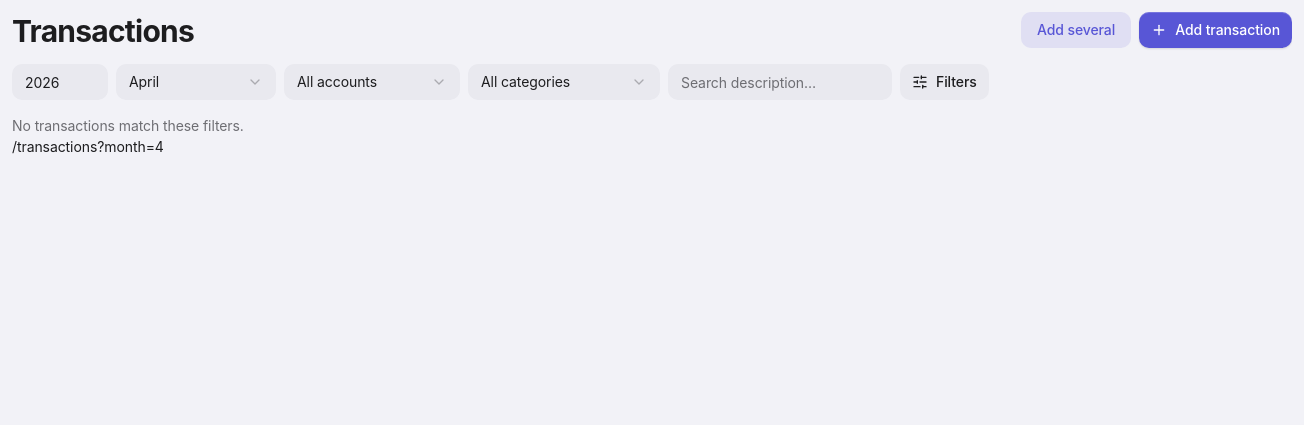
Test case: Transactions page › switches between a month and a custom range
Click the dropdown named "Period" at x=196, y=82, box [116,64,276,100]
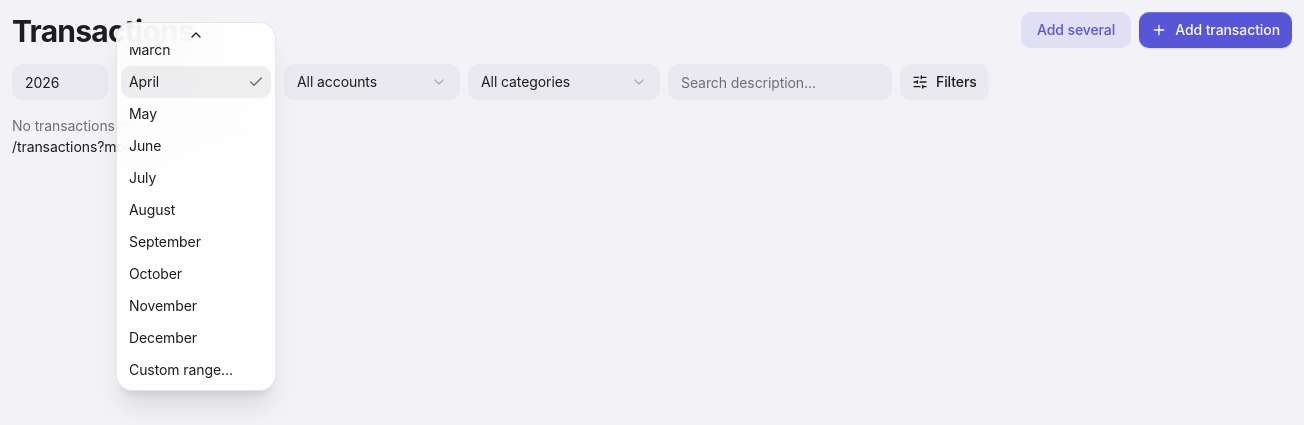
Click the option "Custom range…" at x=181, y=370, box [129,361,233,378]
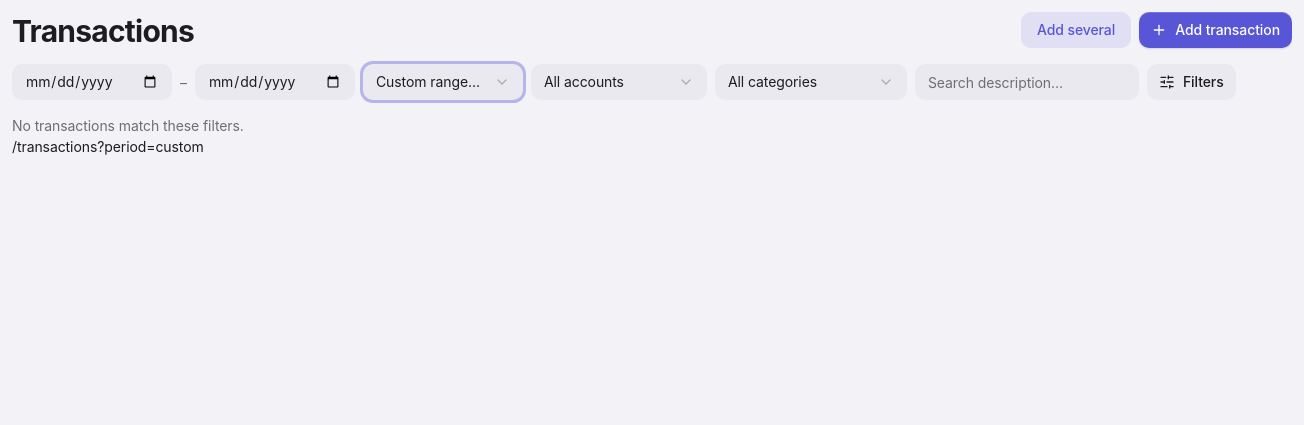
Expected: the text with test id "location" reads "/transactions?period=custom", [12,138,204,155]
Type "2026-05-01" into the date field named "From" at x=92, y=82, box [12,64,172,100]
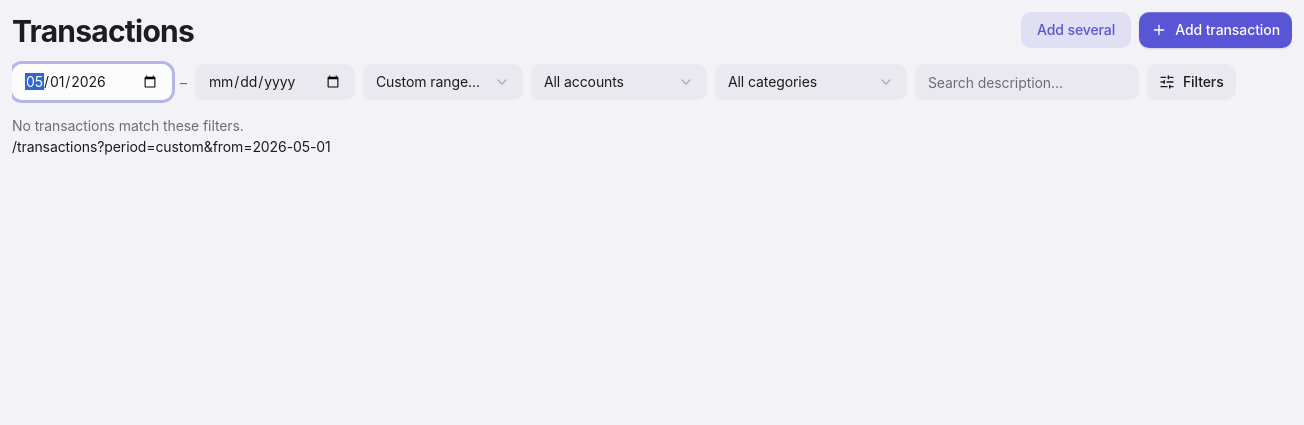
Click the dropdown named "Period" at x=443, y=82, box [363,64,523,100]
(page scrolled)
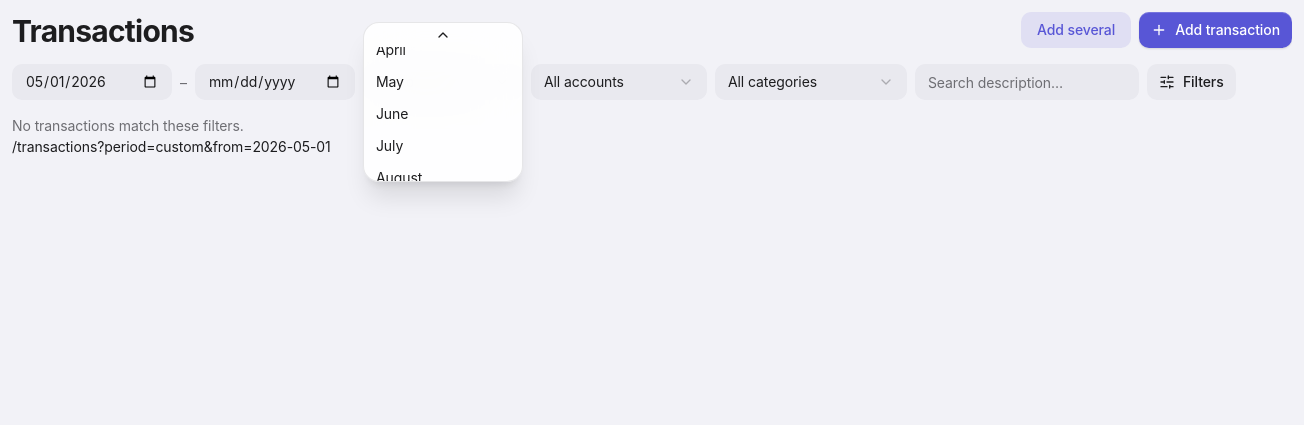
Click the option "June" at x=392, y=114, box [376,105,408,122]
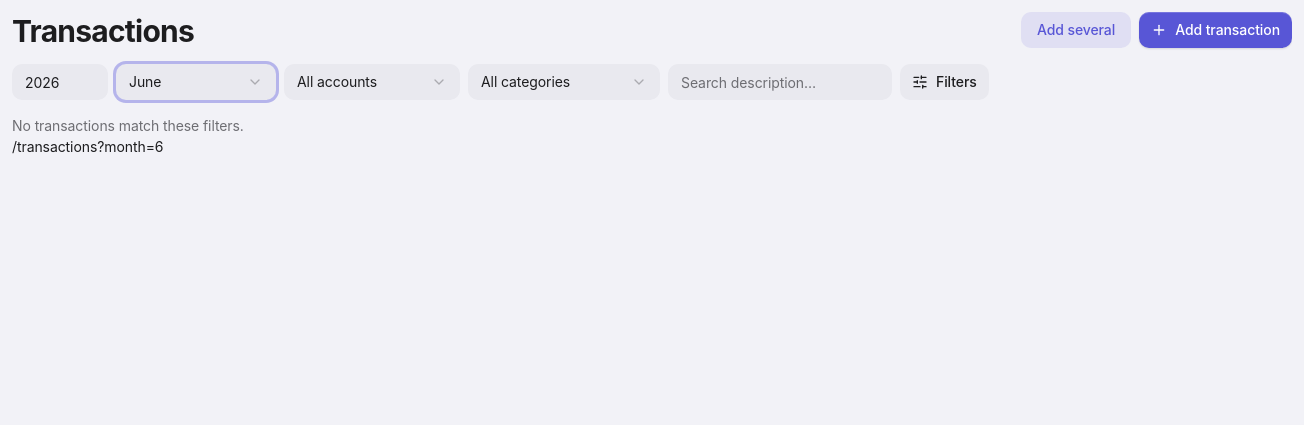
Expected: the text with test id "location" reads "/transactions?month=6", [12,138,163,155]
